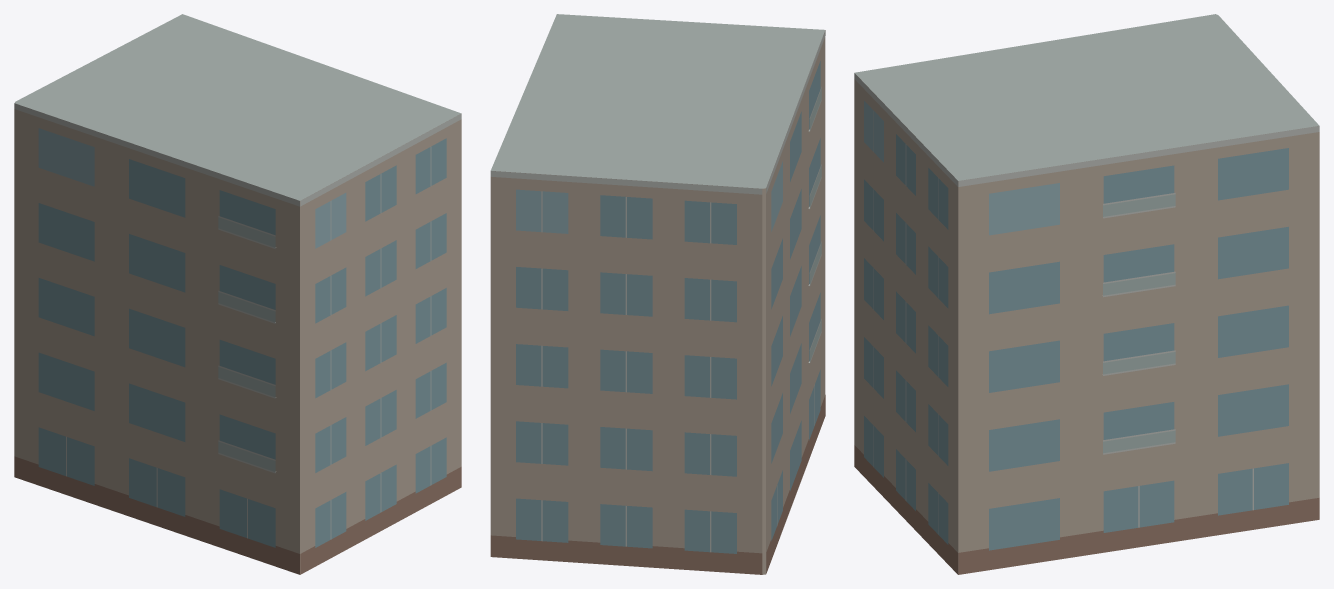
Rendered from survey-upis-32864561.glb.
3 views of the same model, side by side, from view 1: azimuth 30°, elevation 25°; view 2: azimuth 150°, elevation 25°; view 3: azimuth 270°, elevation 25° (orthographic). The views are drawn at different scales.
Parts seen in each view (by area): view 1: survey-upis-32864561.tmp; view 2: survey-upis-32864561.tmp; view 3: survey-upis-32864561.tmp.
Part boxes in pixels (x1,y1,x2,y2): survey-upis-32864561.tmp: (14, 14, 461, 574); survey-upis-32864561.tmp: (490, 14, 825, 574); survey-upis-32864561.tmp: (854, 14, 1319, 574).
Bounding box in the file's own units: 14.28 × 15.7 × 16.82.
